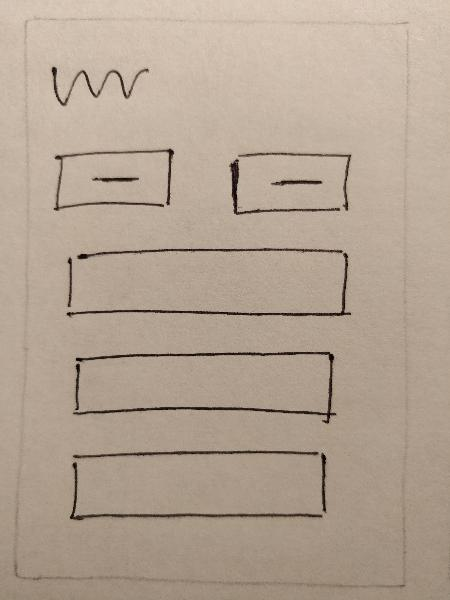button: (219, 141, 360, 224), (45, 145, 181, 221)
text: (42, 56, 154, 110)
text_input: (57, 243, 360, 330), (64, 347, 345, 429), (65, 446, 334, 530)
